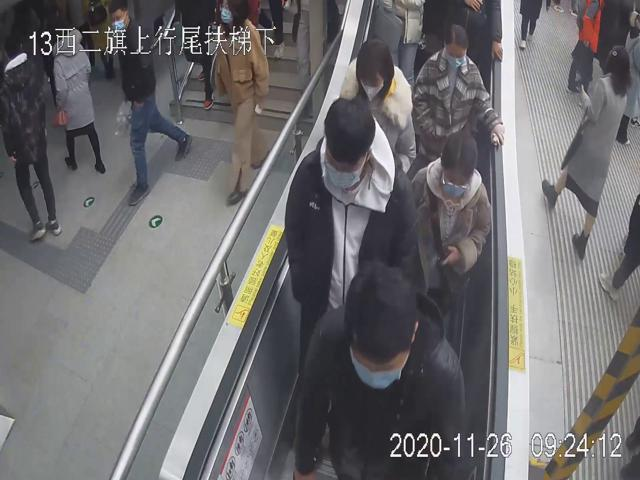person: (295, 261, 473, 480), (282, 96, 424, 311), (540, 40, 632, 261), (410, 127, 493, 317), (414, 22, 504, 172), (338, 38, 416, 173)
